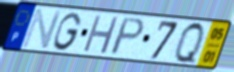7: (150, 18, 181, 61)
G: (52, 11, 83, 52)
H: (81, 14, 121, 56)
N: (20, 7, 65, 50)
P: (107, 16, 147, 57)
Q: (173, 20, 206, 68)
